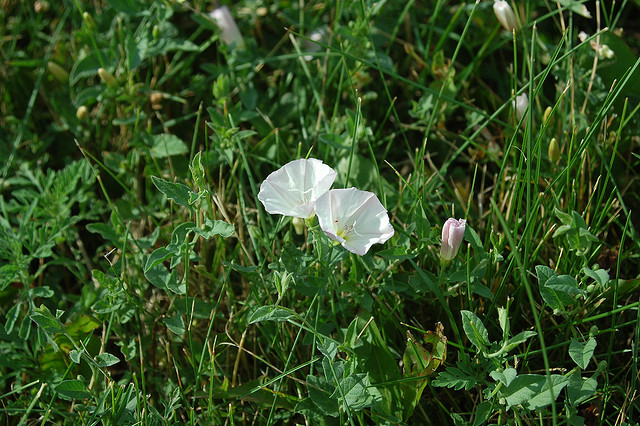bindweed: (314, 184, 395, 260), (256, 157, 336, 222)
